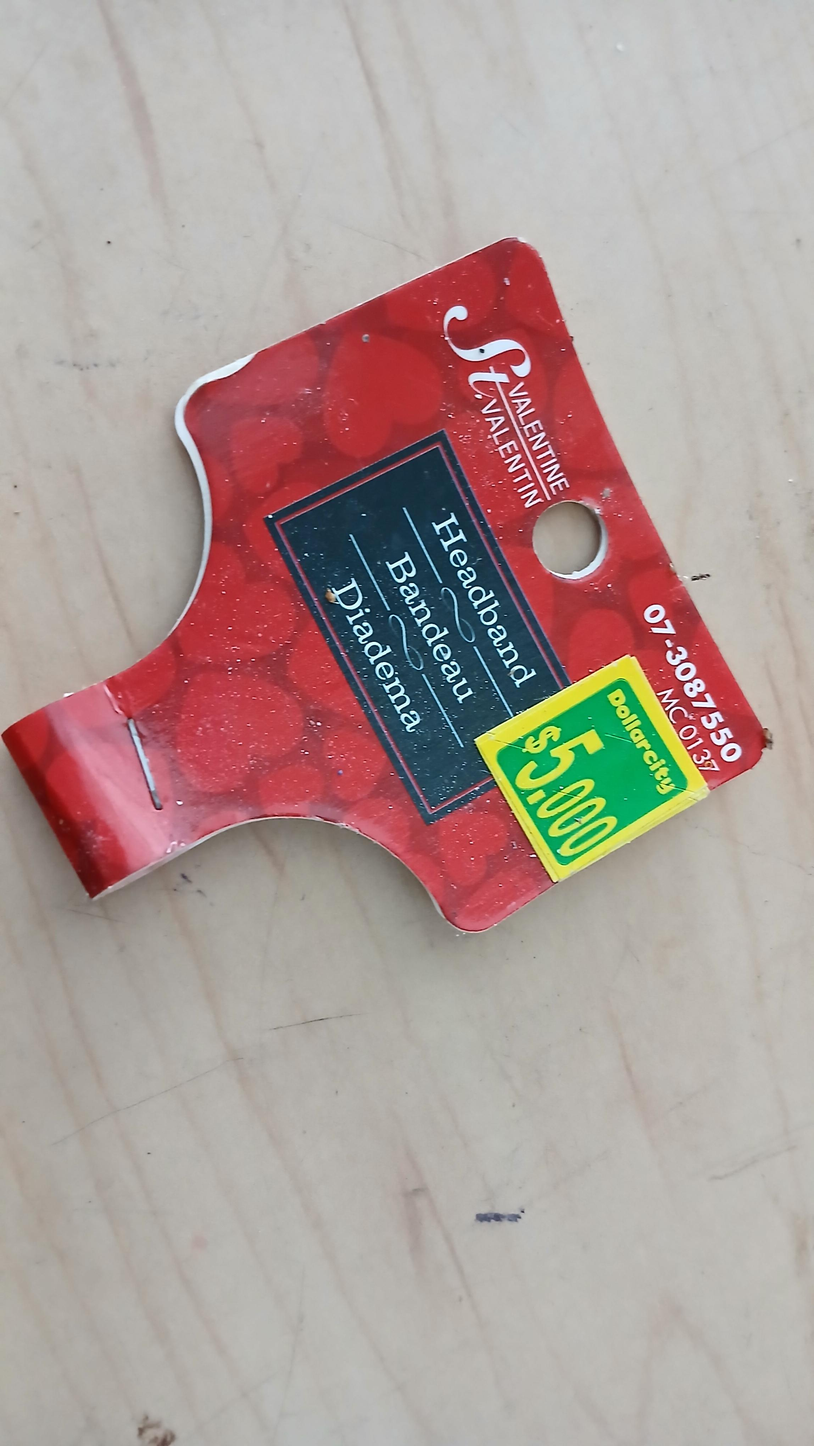Papel: (2, 238, 773, 930)
